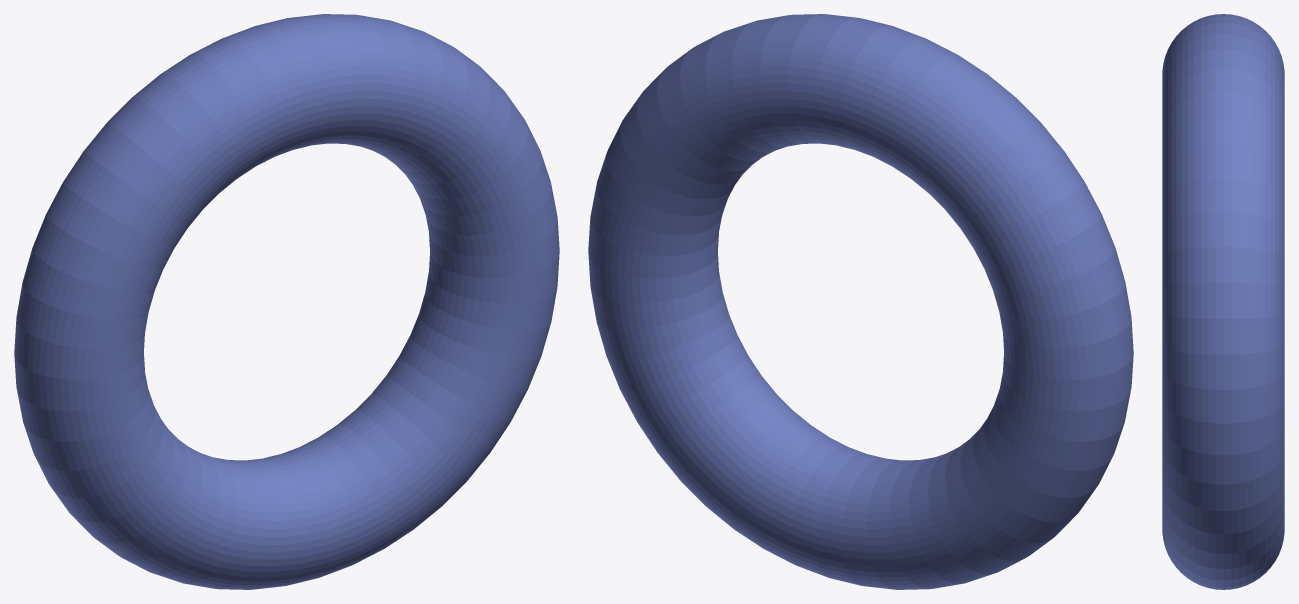
3 renders of one model, left to right at view 1: azimuth 30°, elevation 25°; view 2: azimuth 150°, elevation 25°; view 3: azimuth 270°, elevation 25°, orthographic. The views are drawn at different scales.
Parts seen in each view (by area): view 1: world; view 2: world; view 3: world.
Part boxes in pixels (bbox=[...]): world: bbox=[14, 14, 559, 589]; world: bbox=[588, 14, 1133, 589]; world: bbox=[1162, 14, 1284, 589].
Size of the model in its own units: 16.93 by 16.9 by 3.59.
